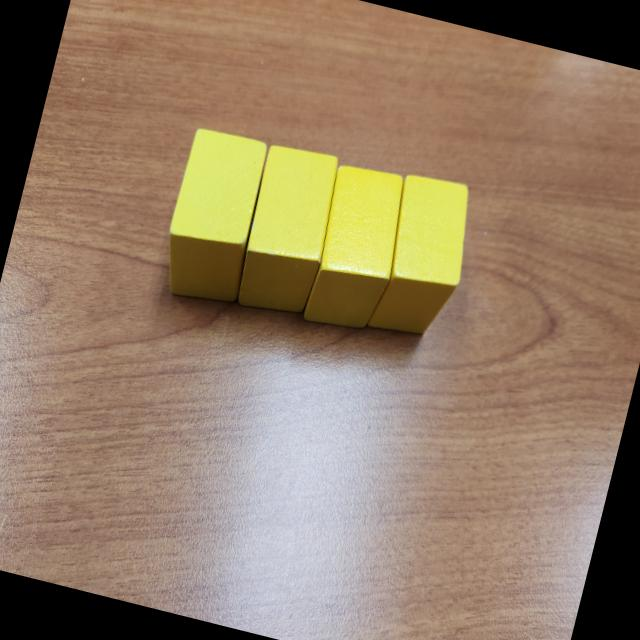yellow: (153, 124, 275, 310), (230, 138, 348, 322), (364, 169, 483, 347), (298, 159, 414, 340)
